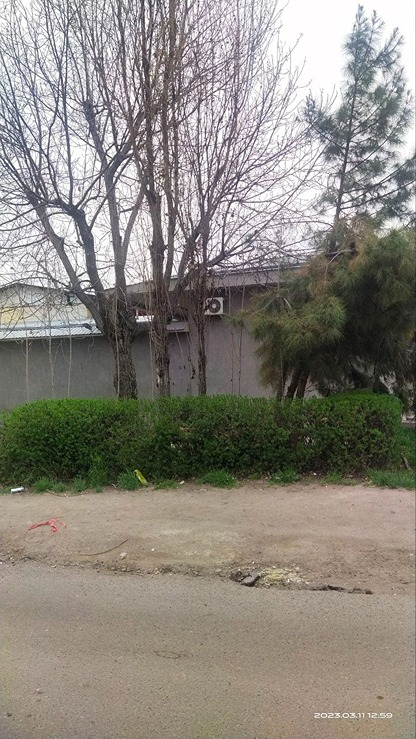tree: (0, 0, 147, 385), (121, 0, 255, 378), (75, 0, 182, 365), (302, 12, 416, 332)
